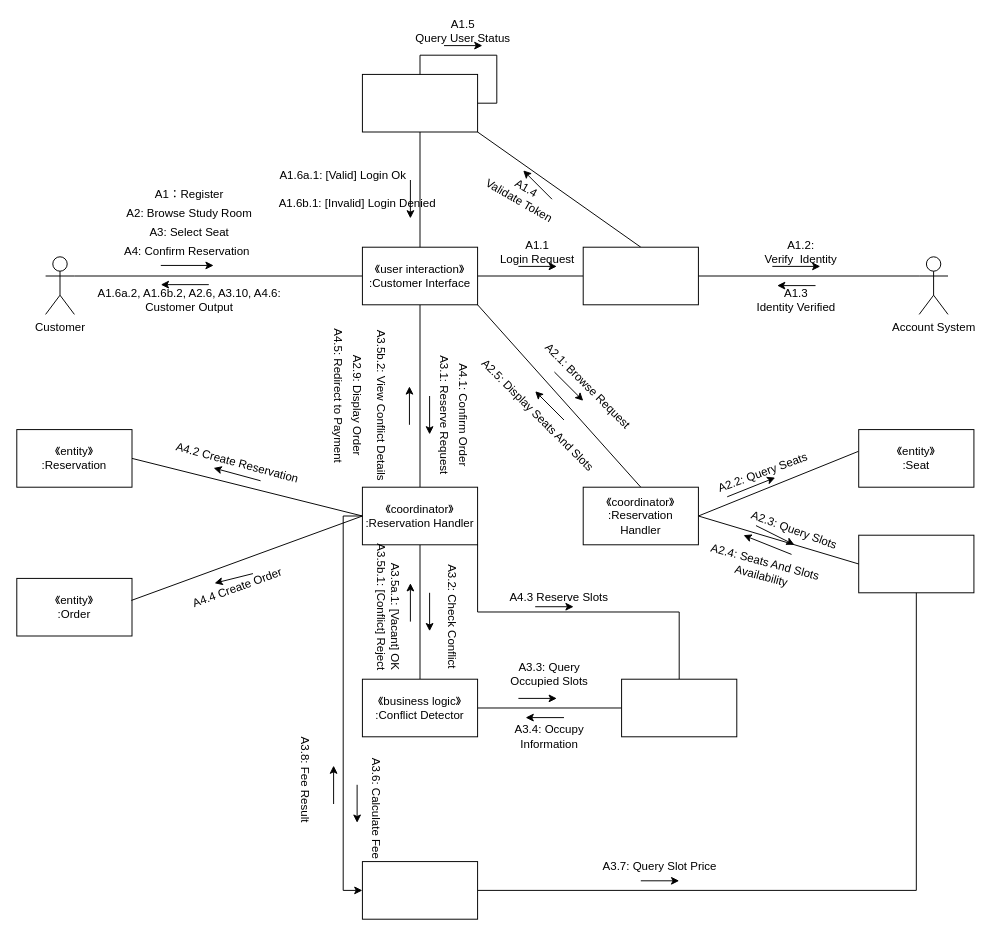
This 992x936 diagram has some shape labels left out. The shapes that lost their labels are listed below. From the top down, each one's centre as x and y in pixels, then its label:
At point (419, 102): "《coordinator》 :Auth Handler".
At point (640, 275): "《proxy》 :Account Interface".
At point (916, 563): "《entity》 :TimeSlot".
At point (679, 707): "《entity》 :ReservationSlot".
At point (419, 890): "《business logic》 :FeeCalculator".
